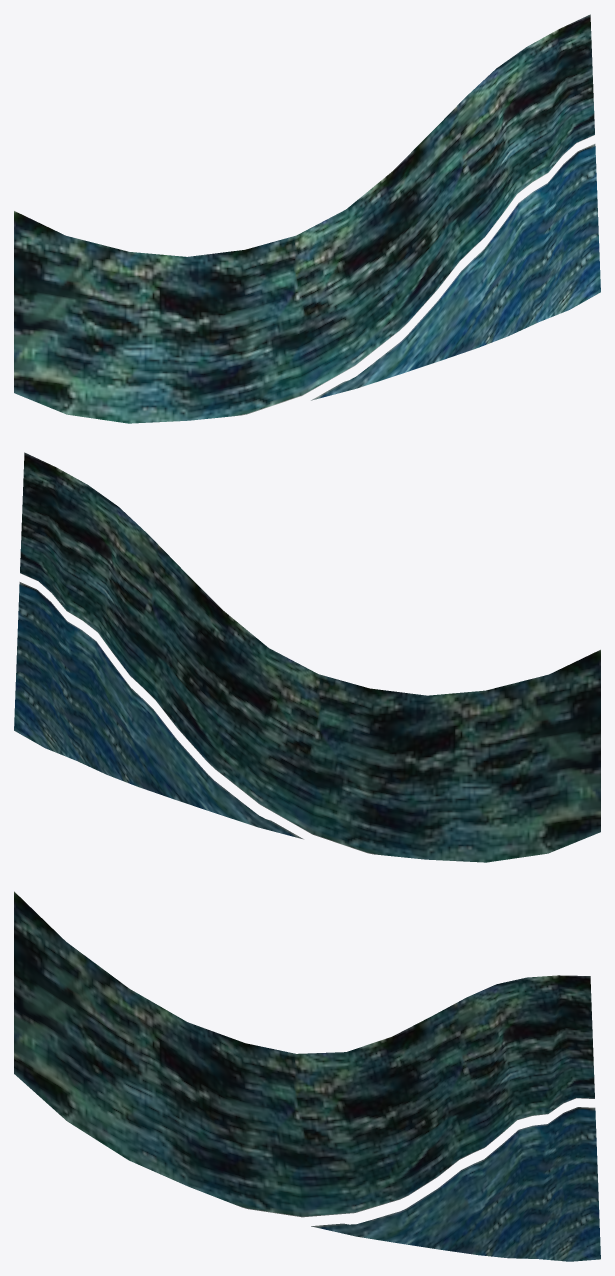
The model's file is yun6.fbx.
3 views of the same model, one above another, from view 1: azimuth 30°, elevation 25°; view 2: azimuth 150°, elevation 25°; view 3: azimuth 330°, elevation 25° (orthographic).
Parts seen in each view (by area): view 1: yun6; view 2: yun6; view 3: yun6.
Part boxes in pixels (<box>): yun6: <box>14,14,600,423</box>; yun6: <box>14,452,600,862</box>; yun6: <box>14,891,600,1261</box>.
Size of the model in its own units: 19.33 by 10.03 by 0.0209.
